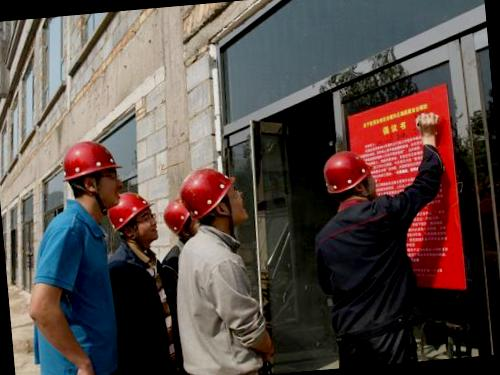helmet: (173, 163, 242, 218), (311, 148, 374, 198), (57, 138, 122, 184)
no_vest: (310, 191, 450, 346), (33, 204, 125, 375), (171, 227, 276, 375)
person: (301, 138, 461, 370), (17, 129, 141, 375), (158, 160, 282, 375)
